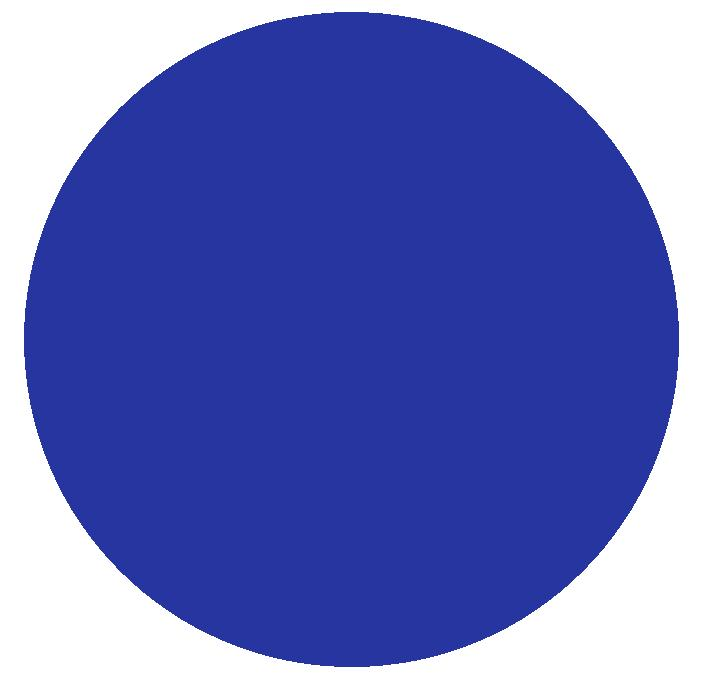blue_circle: (3, 3, 717, 676)
